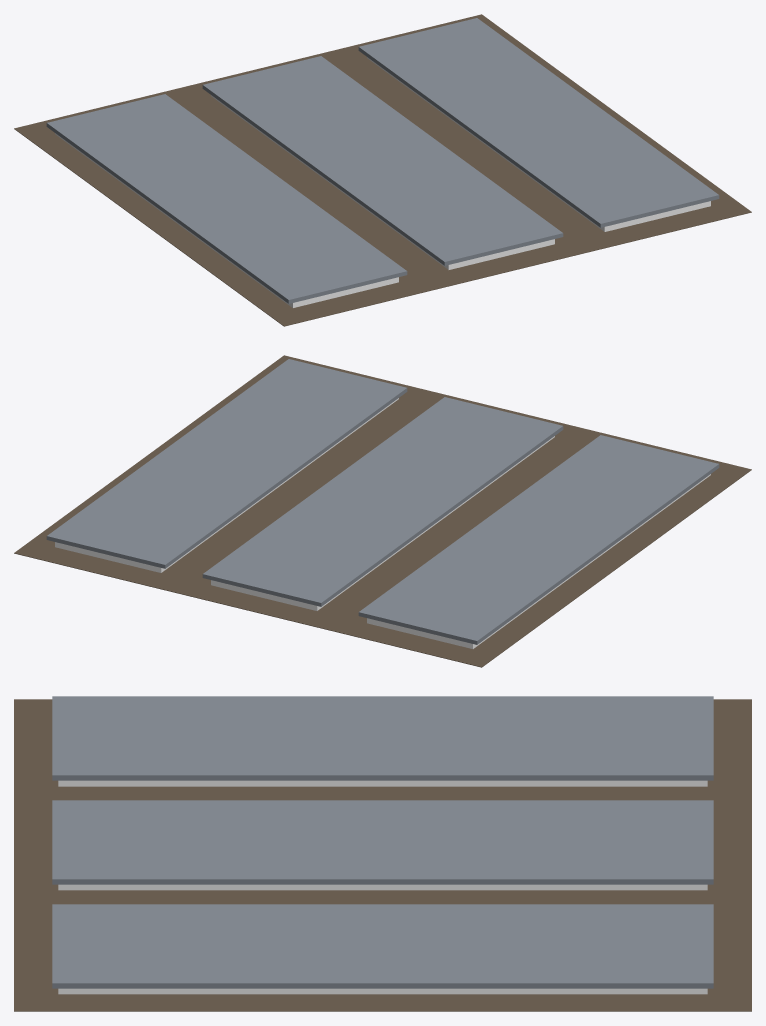
File: far.fbx
3 views of the same model, one above another, from view 1: azimuth 30°, elevation 25°; view 2: azimuth 150°, elevation 25°; view 3: azimuth 270°, elevation 25° (orthographic). The views are drawn at different scales.
Parts seen in each view (by area): view 1: a1003/500/far; view 2: a1003/500/far; view 3: a1003/500/far.
Part boxes in pixels (x1,y1,x2,y2): a1003/500/far: (14, 14, 751, 326); a1003/500/far: (14, 355, 751, 667); a1003/500/far: (14, 696, 751, 1011).
Size of the model in its own units: 50 by 1.2 by 50.
